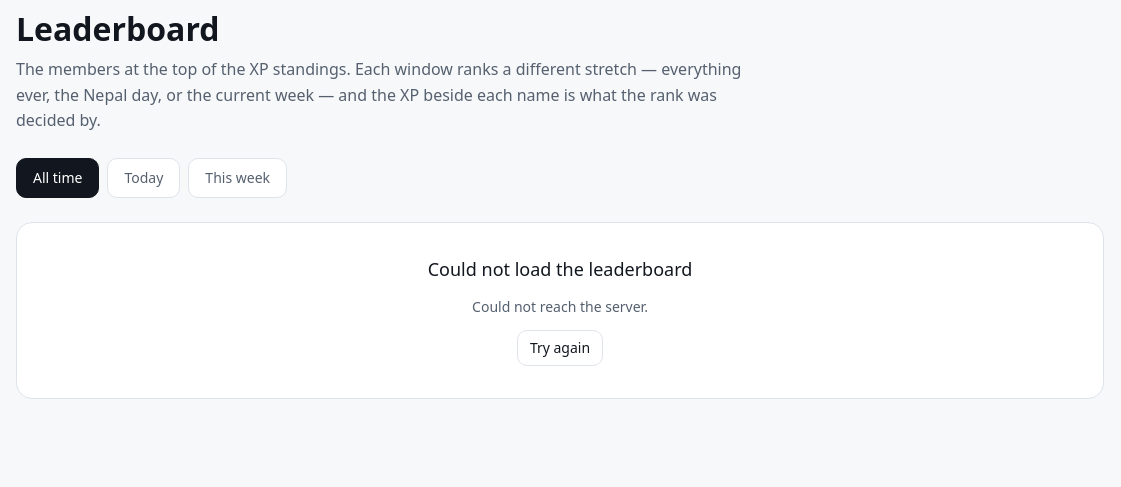
Test case: LeaderboardPage › offers a retry when the board cannot be loaded
expect the text "Could not load the leaderboard" is shown: met, box x1=428 y1=255 x2=692 y2=284
expect the text "Could not reach the server." is shown: met, box x1=472 y1=296 x2=648 y2=318
Click the button "Try again": [560, 348] box x1=517 y1=330 x2=603 y2=366
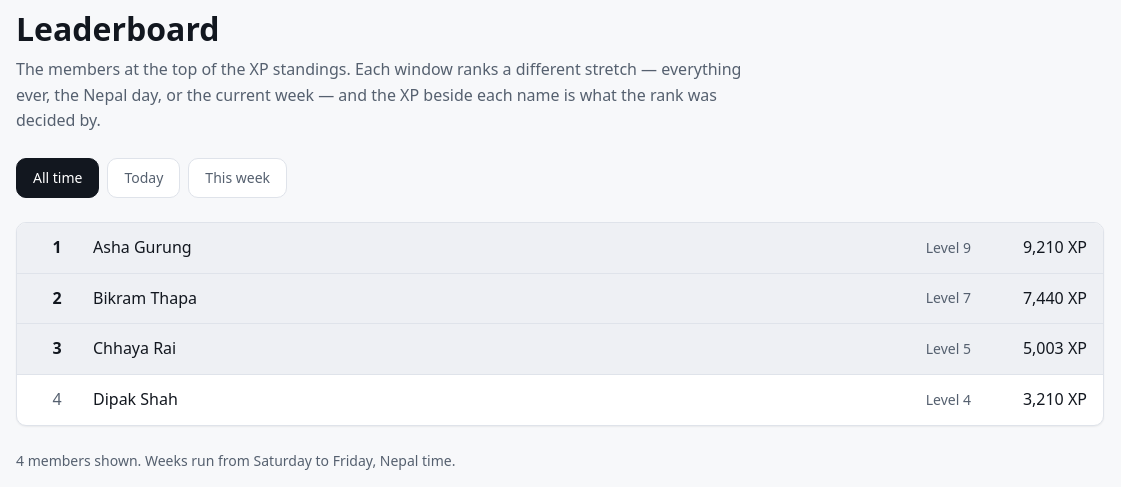
expect the text "Asha Gurung" is shown: met, box x1=93 y1=236 x2=192 y2=258
